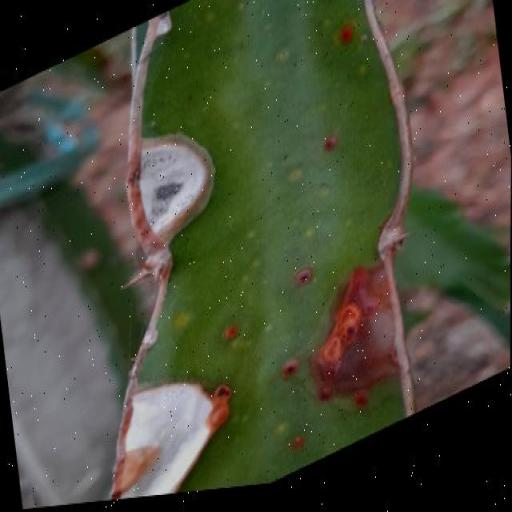stemcanker: (358, 327, 375, 370), (292, 334, 310, 368), (151, 314, 169, 341), (309, 400, 323, 432), (162, 283, 176, 313), (218, 277, 230, 308), (363, 474, 376, 498), (264, 358, 276, 382)
